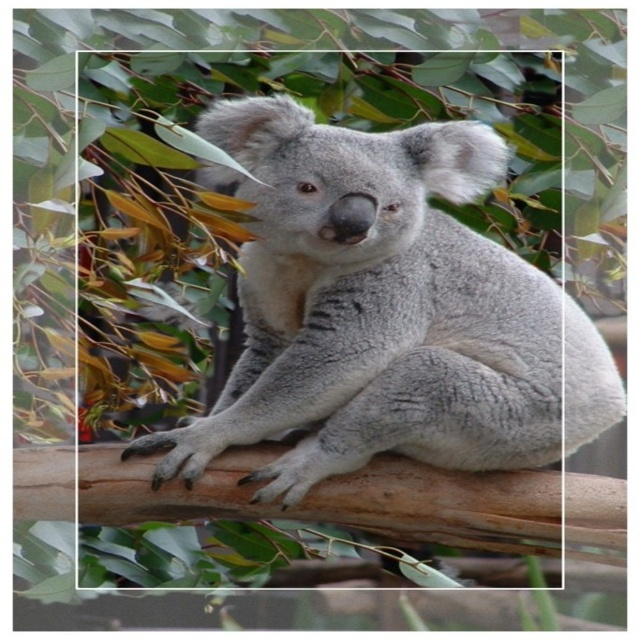Koala: (115, 94, 631, 515)
